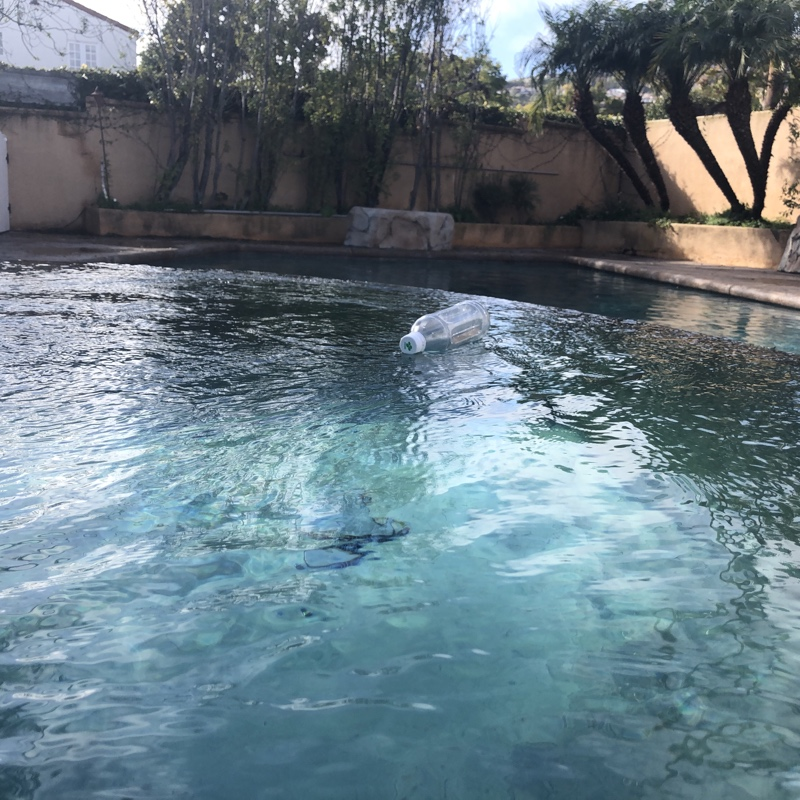Plastic Bottle: (397, 295, 495, 357)
